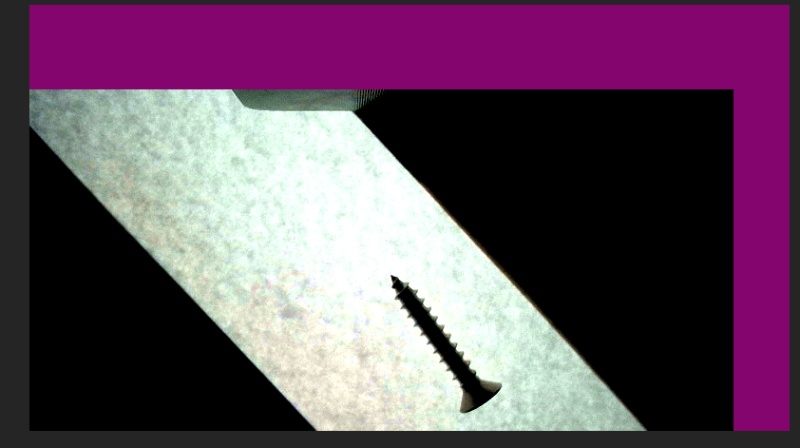S001: (383, 268, 502, 418)
